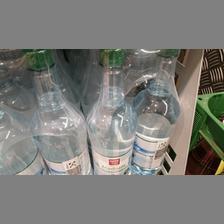Wasser: (20, 49, 88, 173), (82, 50, 134, 174), (131, 47, 179, 172)
